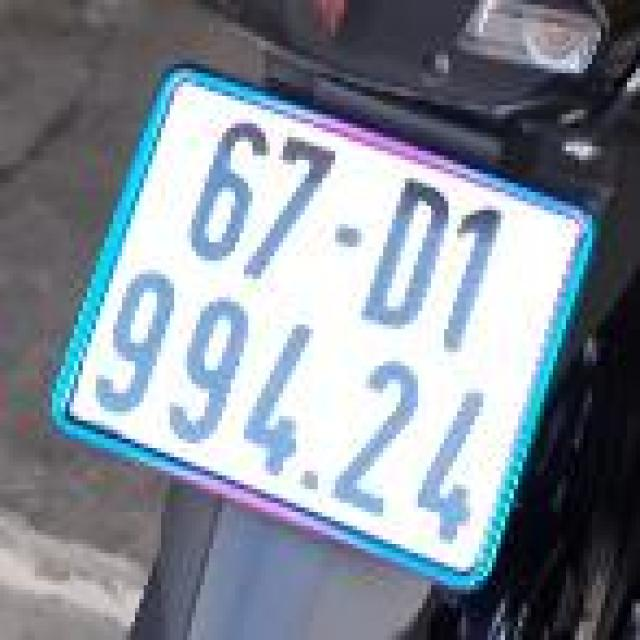1: (418, 190, 521, 368)
2: (314, 346, 448, 528)
4: (399, 375, 517, 558), (227, 311, 349, 486)
6: (176, 112, 281, 272)
7: (230, 126, 356, 283)
9: (154, 283, 270, 455), (84, 258, 194, 430)
D: (347, 166, 463, 342)
